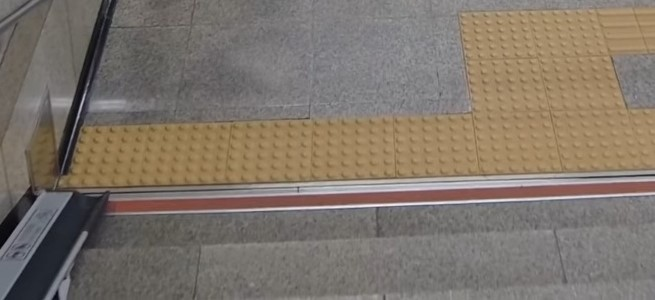warningBlock: (557, 107, 636, 170), (231, 123, 315, 177), (480, 107, 551, 169), (309, 121, 390, 174), (146, 130, 229, 178), (543, 56, 615, 111), (396, 120, 471, 171), (467, 56, 545, 105), (76, 135, 143, 179), (464, 15, 532, 55), (535, 18, 589, 57)
